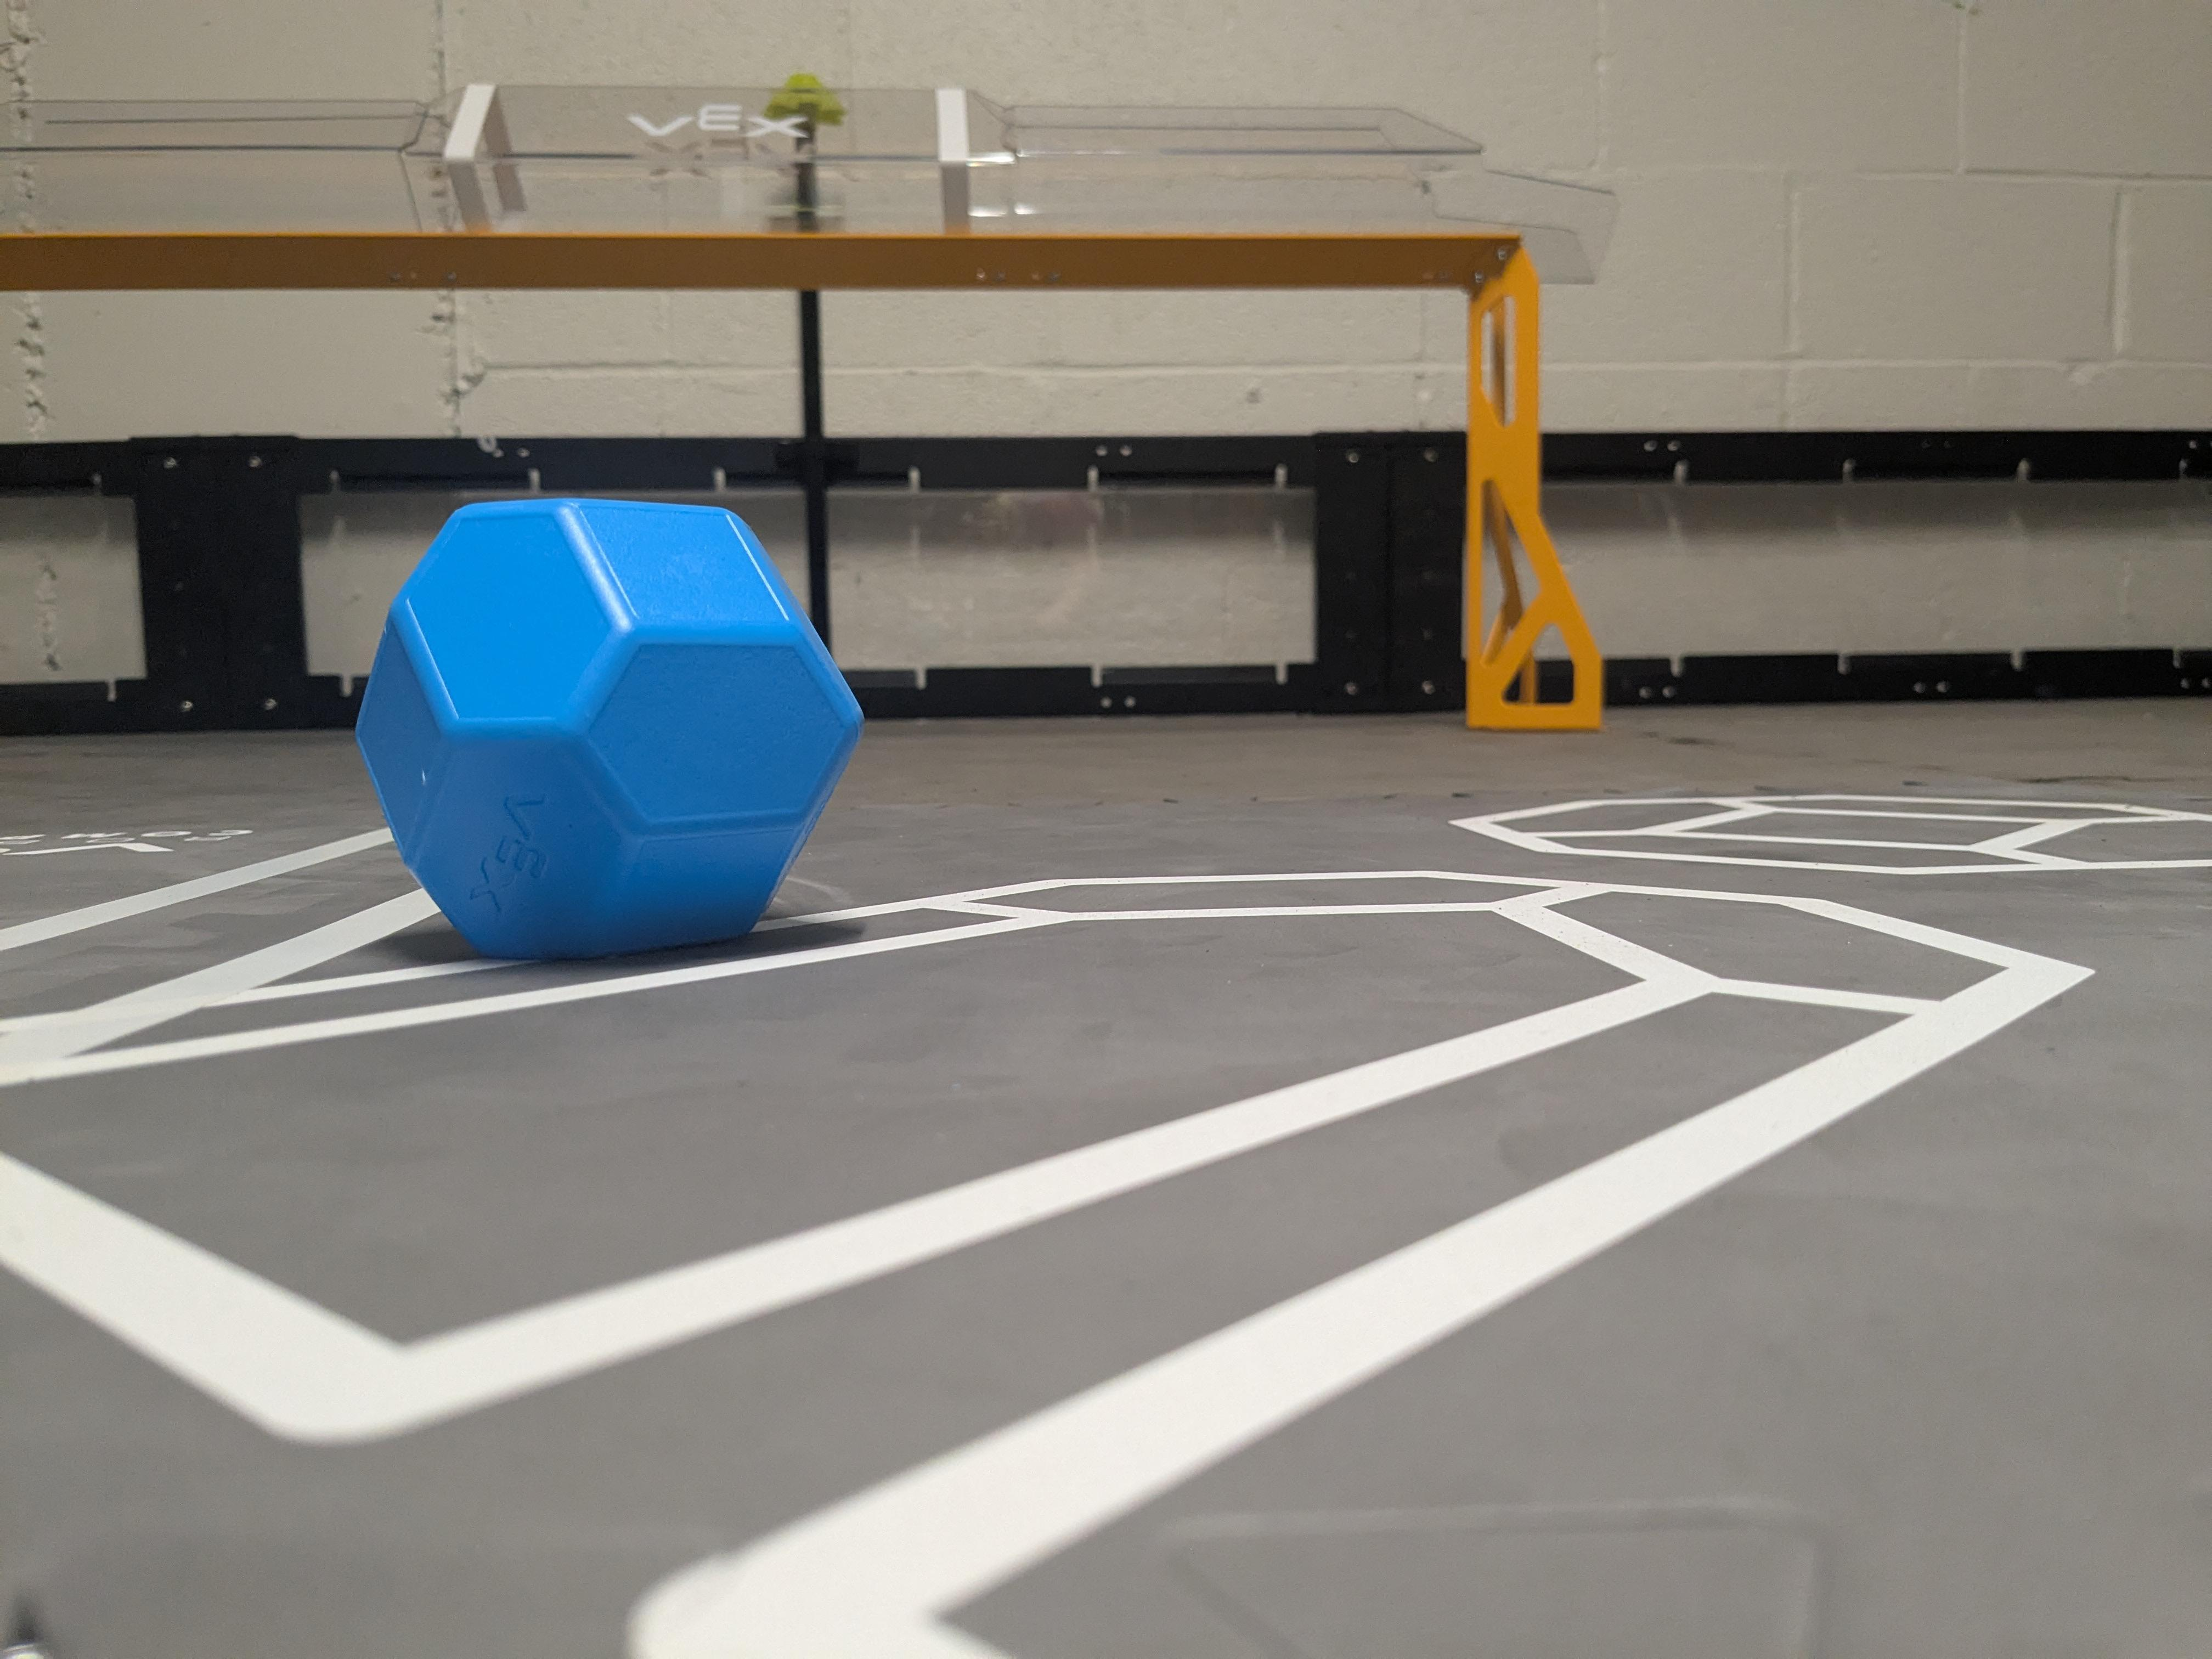Vex-Pieces-BLUE: (355, 500, 860, 964)
